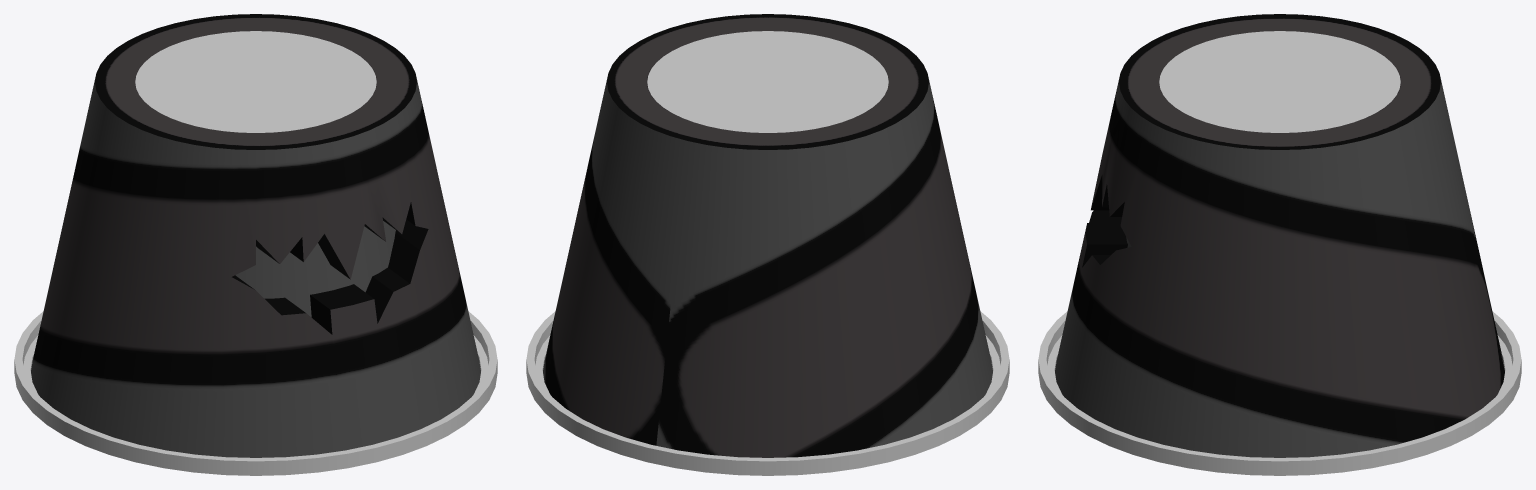
File: kANcan.obj
3 renders of one model, left to right at view 1: azimuth 30°, elevation 25°; view 2: azimuth 150°, elevation 25°; view 3: azimuth 270°, elevation 25°, orthographic.
Visible parts, largest first — view 1: Tube1, Cylinder4, Tube2, Tube2_copy3; view 2: Tube1, Cylinder4, Tube2, Tube2_copy3; view 3: Tube1, Cylinder4, Tube2, Tube2_copy3.
Boxes of the visible parts, left/top/right/bottom form: Tube1: left=31, top=14, right=480, bottom=457; Cylinder4: left=135, top=31, right=376, bottom=132; Tube2: left=14, top=311, right=497, bottom=475; Tube2_copy3: left=23, top=335, right=488, bottom=393; Tube1: left=543, top=14, right=992, bottom=457; Cylinder4: left=647, top=31, right=888, bottom=132; Tube2: left=526, top=311, right=1009, bottom=475; Tube2_copy3: left=535, top=335, right=1000, bottom=393; Tube1: left=1055, top=14, right=1504, bottom=457; Cylinder4: left=1159, top=31, right=1400, bottom=132; Tube2: left=1038, top=311, right=1521, bottom=475; Tube2_copy3: left=1047, top=335, right=1512, bottom=393.
Size of the model in its own units: 3 by 2 by 3.
